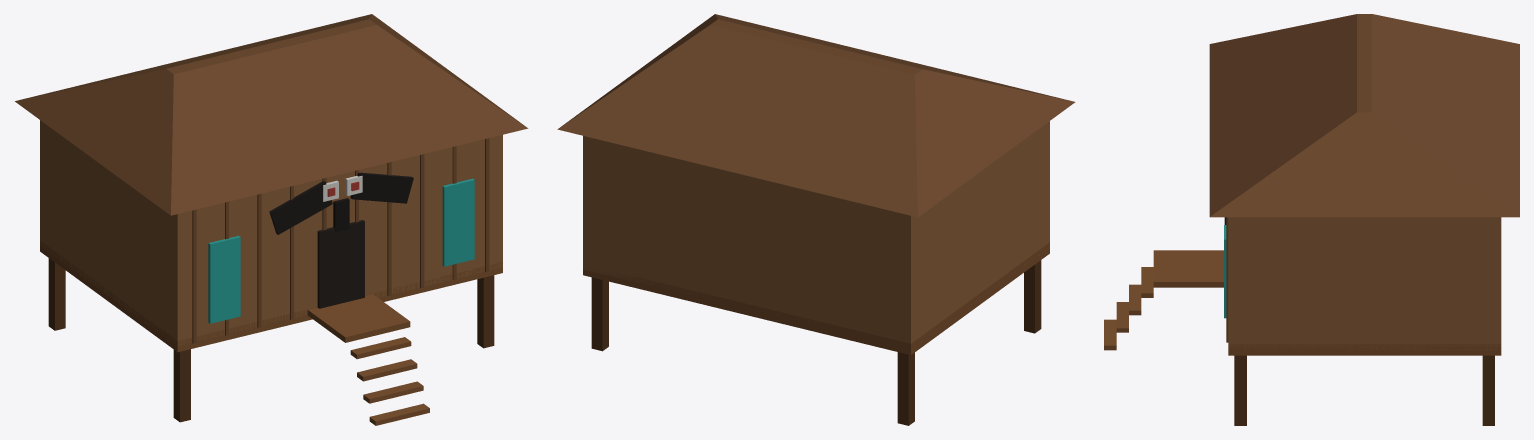
File: bird_house_b.glb
The picture shows the model from 3 angles, left to right: view 1: azimuth 30°, elevation 25°; view 2: azimuth 150°, elevation 25°; view 3: azimuth 270°, elevation 25°; orthographic projection.
Parts seen in each view (by area): view 1: bird_house_b; view 2: bird_house_b; view 3: bird_house_b.
Part boxes in pixels (x1=…): bird_house_b: x1=15, y1=14, x2=528, y2=425; bird_house_b: x1=557, y1=14, x2=1075, y2=425; bird_house_b: x1=1104, y1=14, x2=1519, y2=425.
Size of the model in its own units: 3.3 by 2.55 by 3.35.
